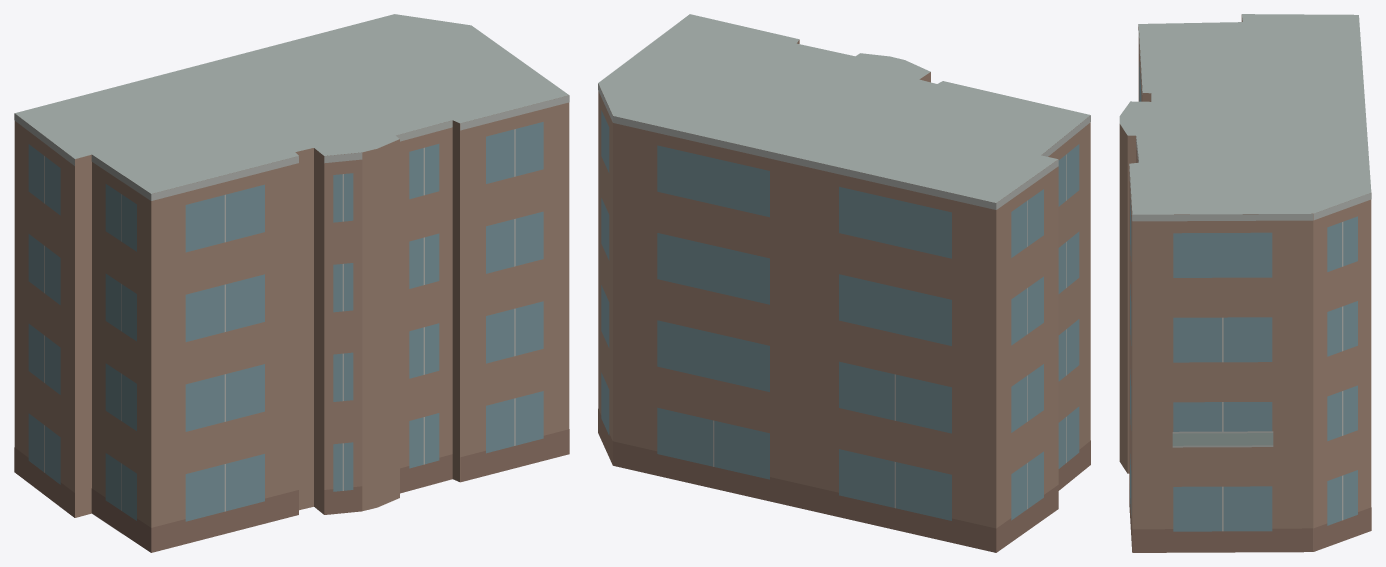
File: survey-upis-32958901.glb
3 renders of one model, left to right at view 1: azimuth 30°, elevation 25°; view 2: azimuth 150°, elevation 25°; view 3: azimuth 270°, elevation 25°, orthographic. The views are drawn at different scales.
Parts seen in each view (by area): view 1: survey-upis-32958901.tmp; view 2: survey-upis-32958901.tmp; view 3: survey-upis-32958901.tmp.
Boxes of the visible parts, <box> form: survey-upis-32958901.tmp: <box>14,14,569,552</box>; survey-upis-32958901.tmp: <box>598,14,1090,552</box>; survey-upis-32958901.tmp: <box>1119,14,1371,552</box>.
Size of the model in its own units: 15.55 by 12.2 by 8.24.
